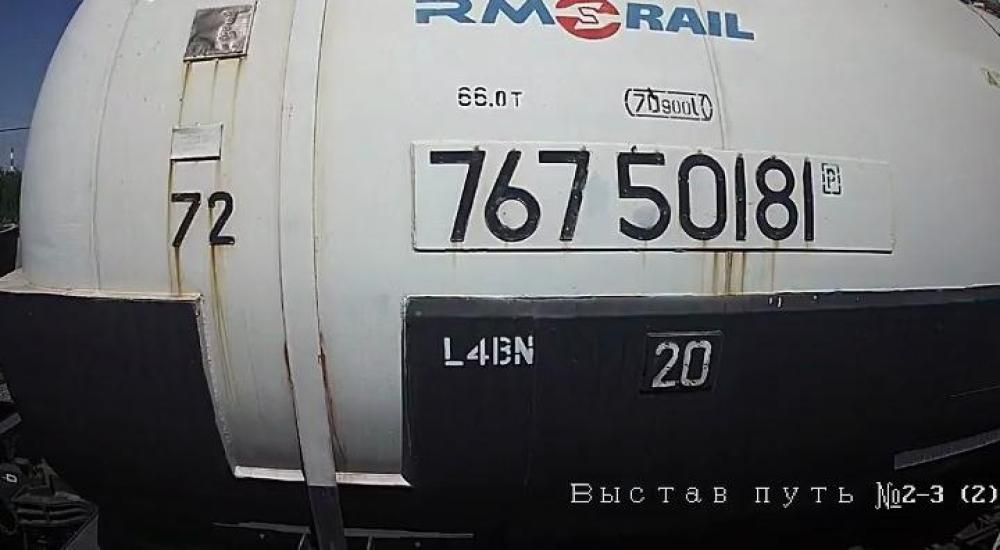Wagon-number: (426, 143, 825, 249)
